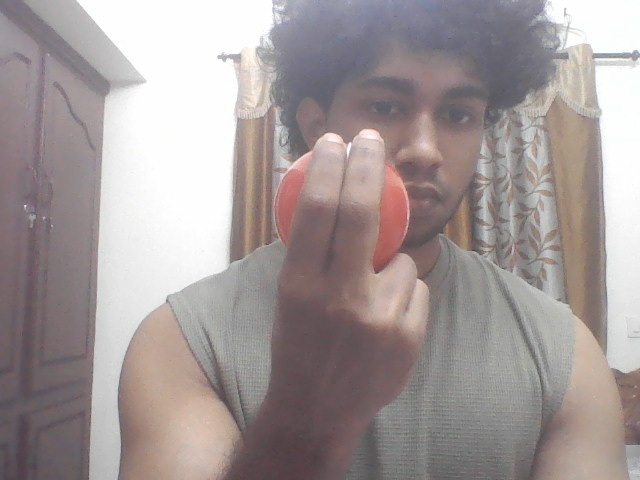cricket_ball: (265, 137, 415, 270)
